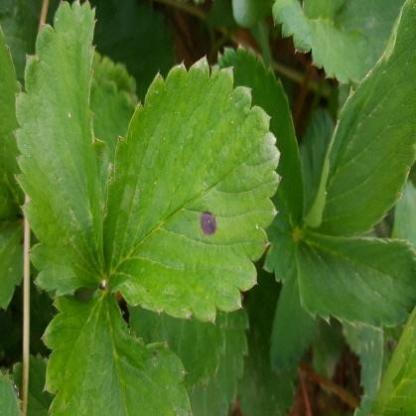Strawberry_Leaf_Spot: (102, 53, 284, 325), (40, 286, 194, 415)
